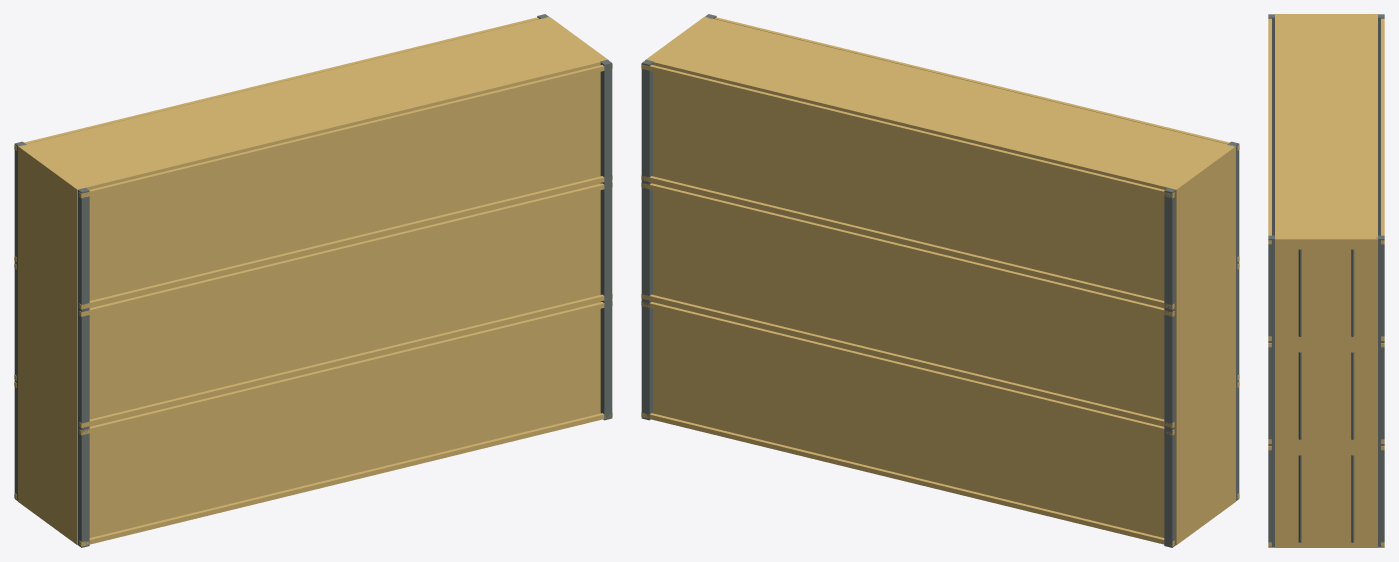
File: container-stack-2.glb
3 renders of one model, left to right at view 1: azimuth 30°, elevation 25°; view 2: azimuth 150°, elevation 25°; view 3: azimuth 270°, elevation 25°, orthographic. The views are drawn at different scales.
Bounding box in the file's own units: 12.36 × 7.8 × 2.66.
